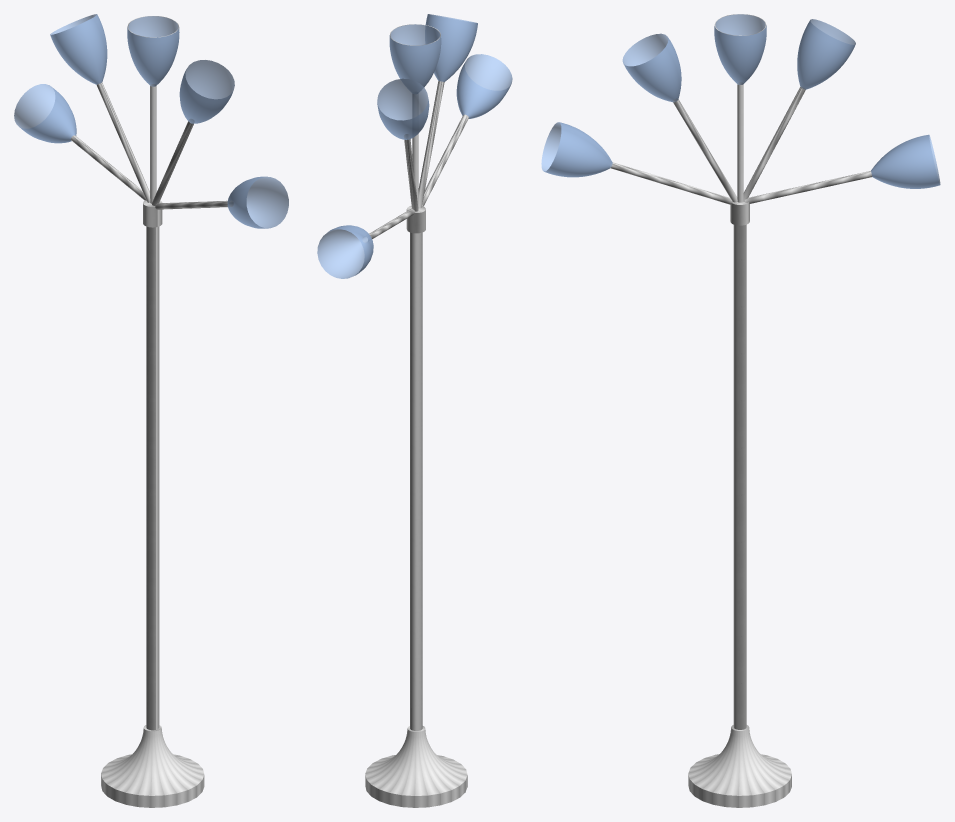
3 renders of one model, left to right at view 1: azimuth 30°, elevation 25°; view 2: azimuth 150°, elevation 25°; view 3: azimuth 270°, elevation 25°, orthographic.
Parts seen in each view (by area): view 1: mesh1_mesh1-geometry, mesh1_mesh1-geometry_2, mesh5_mesh5-geometry, mesh3_mesh3-geometry, mesh4_mesh4-geometry, mesh6_mesh6-geometry, mesh4_mesh4-geometry_1, mesh5_mesh5-geometry_1, mesh3_mesh3-geometry_1, mesh6_mesh6-geometry_1; view 2: mesh1_mesh1-geometry, mesh1_mesh1-geometry_2, mesh6_mesh6-geometry, mesh4_mesh4-geometry, mesh5_mesh5-geometry, mesh3_mesh3-geometry, mesh3_mesh3-geometry_1, mesh6_mesh6-geometry_1, mesh4_mesh4-geometry_1; view 3: mesh1_mesh1-geometry, mesh3_mesh3-geometry, mesh1_mesh1-geometry_2, mesh6_mesh6-geometry, mesh4_mesh4-geometry, mesh5_mesh5-geometry, mesh5_mesh5-geometry_1, mesh6_mesh6-geometry_1, mesh4_mesh4-geometry_1, mesh3_mesh3-geometry_1.
Boxes of the visible parts, x1,y1,x2,y2 form: mesh1_mesh1-geometry: (101,16,204,807); mesh1_mesh1-geometry_2: (127,16,179,86); mesh5_mesh5-geometry: (14,84,76,143); mesh3_mesh3-geometry: (179,60,234,123); mesh4_mesh4-geometry: (50,14,107,84); mesh6_mesh6-geometry: (227,176,288,228); mesh4_mesh4-geometry_1: (96,82,150,202); mesh5_mesh5-geometry_1: (71,135,146,200); mesh3_mesh3-geometry_1: (152,121,193,205); mesh6_mesh6-geometry_1: (155,200,227,209); mesh1_mesh1-geometry: (365,24,467,807); mesh1_mesh1-geometry_2: (389,24,441,93); mesh6_mesh6-geometry: (456,54,512,118); mesh4_mesh4-geometry: (377,78,429,139); mesh5_mesh5-geometry: (317,225,373,278); mesh3_mesh3-geometry: (425,14,477,81); mesh3_mesh3-geometry_1: (418,81,444,207); mesh6_mesh6-geometry_1: (422,114,468,206); mesh4_mesh4-geometry_1: (404,139,418,211); mesh1_mesh1-geometry: (688,14,791,807); mesh3_mesh3-geometry: (622,33,681,102); mesh1_mesh1-geometry_2: (714,14,766,84); mesh6_mesh6-geometry: (541,122,612,177); mesh4_mesh4-geometry: (797,19,855,89); mesh5_mesh5-geometry: (871,134,940,188); mesh5_mesh5-geometry_1: (744,171,872,203); mesh6_mesh6-geometry_1: (611,162,731,204); mesh4_mesh4-geometry_1: (743,87,805,201); mesh3_mesh3-geometry_1: (673,99,737,202).
Size of the model in its own units: 0.1228 by 0.8964 by 0.4258.
4 materials, 1 textured.
